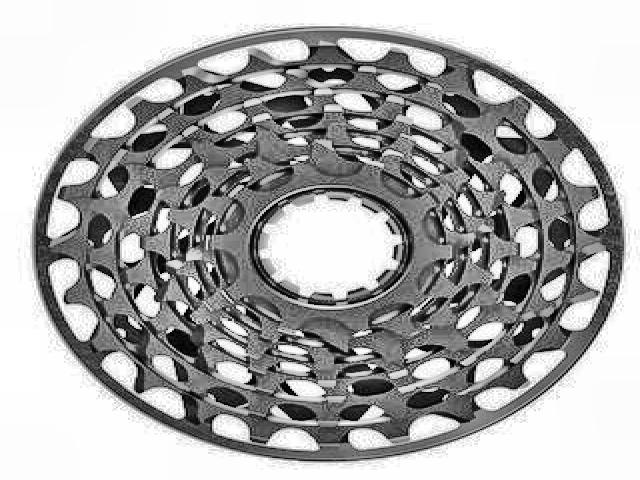cassette: (31, 20, 628, 465)
